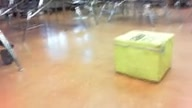cube: (112, 28, 174, 84)
